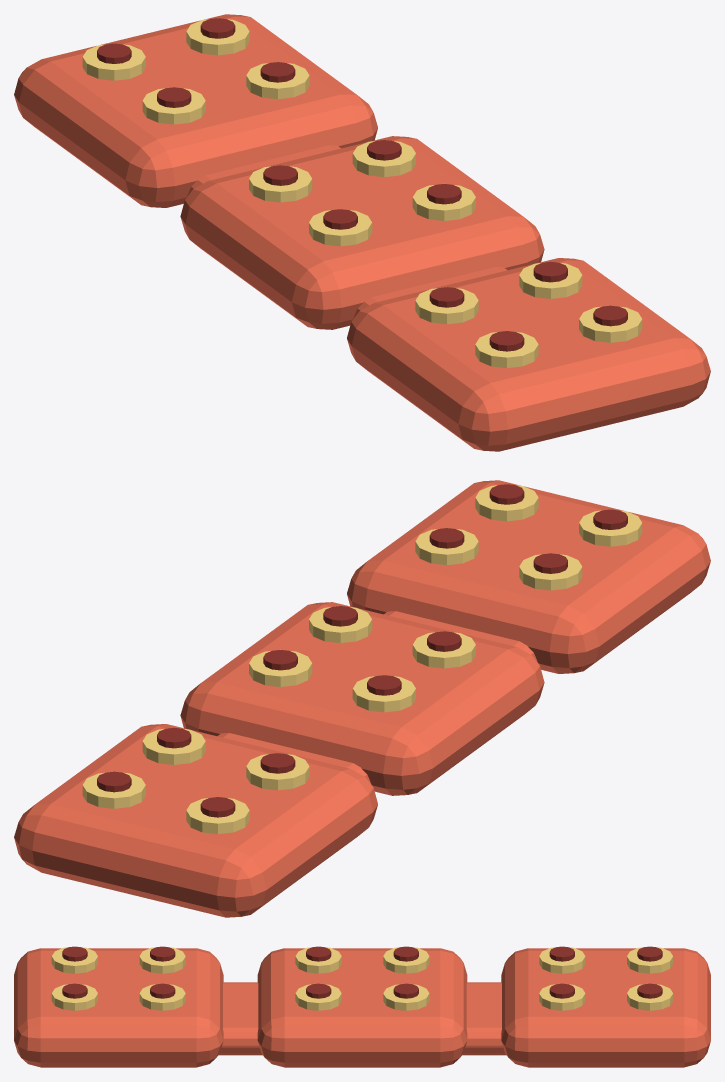
Rendered from PR3D_Container_1x3.glb.
The picture shows the model from 3 angles, top to bottom: view 1: azimuth 30°, elevation 25°; view 2: azimuth 150°, elevation 25°; view 3: azimuth 270°, elevation 25°; orthographic projection. The views are drawn at different scales.
Parts seen in each view (by area): view 1: Visual_1x3_Base_00, Visual_1x3_Base_02, Visual_1x3_Base_01, Visual_1x3_Cheese_00_01, Visual_1x3_Cheese_01_01, Visual_1x3_Cheese_00_02, Visual_1x3_Cheese_02_00, Visual_1x3_Cheese_02_01, Visual_1x3_Cheese_02_02, Visual_1x3_Cheese_02_03, Visual_1x3_Cheese_00_03, Visual_1x3_Cheese_01_00 (+5 smaller); view 2: Visual_1x3_Base_02, Visual_1x3_Base_00, Visual_1x3_Base_01, Visual_1x3_Cheese_01_00, Visual_1x3_Cheese_02_00, Visual_1x3_Cheese_02_03, Visual_1x3_Cheese_00_00, Visual_1x3_Cheese_00_01, Visual_1x3_Cheese_00_02, Visual_1x3_Cheese_00_03, Visual_1x3_Cheese_01_01, Visual_1x3_Cheese_01_03 (+5 smaller); view 3: Visual_1x3_Base_01, Visual_1x3_Base_00, Visual_1x3_Base_02, Visual_1x3_Bridge_00, Visual_1x3_Bridge_01, Visual_1x3_Cheese_00_02, Visual_1x3_Cheese_02_03, Visual_1x3_Cheese_00_00, Visual_1x3_Cheese_00_03, Visual_1x3_Cheese_01_02, Visual_1x3_Cheese_01_03, Visual_1x3_Cheese_02_01 (+17 smaller).
Part boxes in pixels (bbox=[...]): Visual_1x3_Base_00: bbox=[347, 258, 710, 451]; Visual_1x3_Base_02: bbox=[14, 14, 377, 207]; Visual_1x3_Base_01: bbox=[180, 136, 544, 329]; Visual_1x3_Cheese_00_01: bbox=[415, 288, 478, 324]; Visual_1x3_Cheese_01_01: bbox=[249, 166, 312, 202]; Visual_1x3_Cheese_00_02: bbox=[579, 306, 642, 342]; Visual_1x3_Cheese_02_00: bbox=[142, 88, 205, 124]; Visual_1x3_Cheese_02_01: bbox=[82, 44, 145, 80]; Visual_1x3_Cheese_02_02: bbox=[246, 63, 309, 99]; Visual_1x3_Cheese_02_03: bbox=[186, 19, 249, 55]; Visual_1x3_Cheese_00_03: bbox=[519, 262, 582, 298]; Visual_1x3_Cheese_01_00: bbox=[309, 210, 372, 246]; Visual_1x3_Base_02: bbox=[14, 724, 377, 917]; Visual_1x3_Base_00: bbox=[347, 480, 710, 673]; Visual_1x3_Base_01: bbox=[180, 602, 544, 795]; Visual_1x3_Cheese_01_00: bbox=[412, 632, 475, 668]; Visual_1x3_Cheese_02_00: bbox=[246, 754, 309, 790]; Visual_1x3_Cheese_02_03: bbox=[82, 772, 145, 808]; Visual_1x3_Cheese_00_00: bbox=[579, 510, 642, 546]; Visual_1x3_Cheese_00_01: bbox=[519, 554, 582, 590]; Visual_1x3_Cheese_00_02: bbox=[475, 485, 538, 521]; Visual_1x3_Cheese_00_03: bbox=[415, 529, 478, 565]; Visual_1x3_Cheese_01_01: bbox=[352, 676, 415, 712]; Visual_1x3_Cheese_01_03: bbox=[249, 649, 312, 686]; Visual_1x3_Base_01: bbox=[257, 948, 467, 1067]; Visual_1x3_Base_00: bbox=[14, 948, 223, 1067]; Visual_1x3_Base_02: bbox=[501, 948, 710, 1067]; Visual_1x3_Bridge_00: bbox=[218, 982, 262, 1055]; Visual_1x3_Bridge_01: bbox=[462, 982, 506, 1055]; Visual_1x3_Cheese_00_02: bbox=[51, 984, 97, 1010]; Visual_1x3_Cheese_02_03: bbox=[627, 984, 673, 1010]; Visual_1x3_Cheese_00_00: bbox=[51, 947, 97, 973]; Visual_1x3_Cheese_00_03: bbox=[139, 984, 185, 1010]; Visual_1x3_Cheese_01_02: bbox=[295, 984, 341, 1010]; Visual_1x3_Cheese_01_03: bbox=[383, 984, 429, 1010]; Visual_1x3_Cheese_02_01: bbox=[627, 947, 673, 973].
Bounding box in the file's own units: 0.86 × 0.2795 × 2.86.
